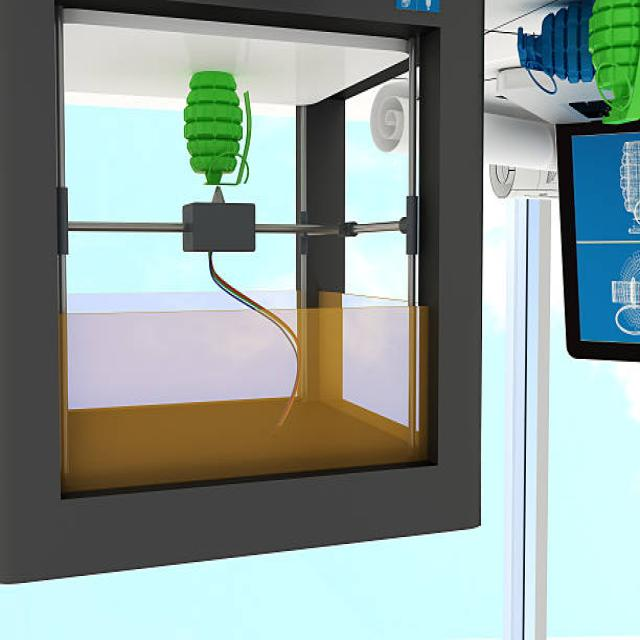grenade: (181, 72, 260, 191), (516, 1, 597, 96), (586, 1, 640, 131)
